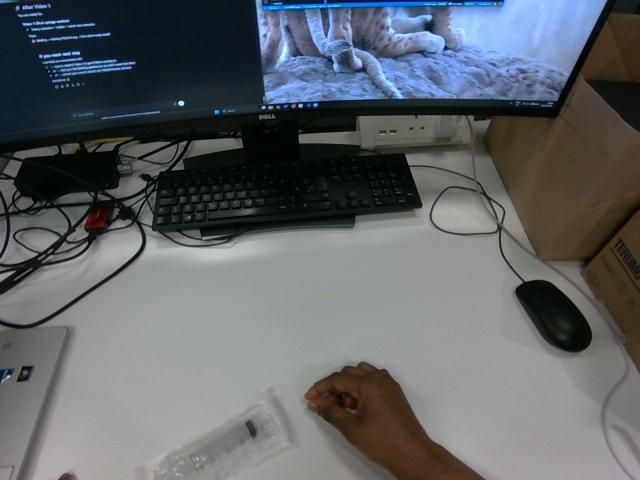syringe: (136, 394, 290, 479)
